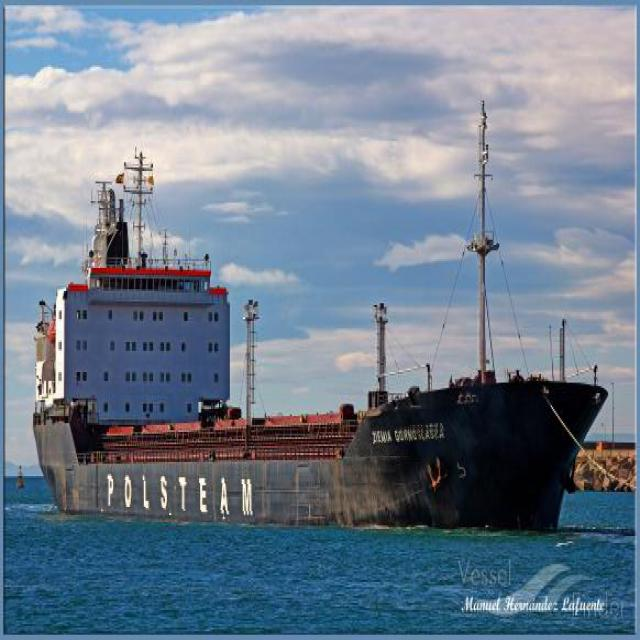OCR: (103, 465, 255, 522), (362, 422, 452, 456)
